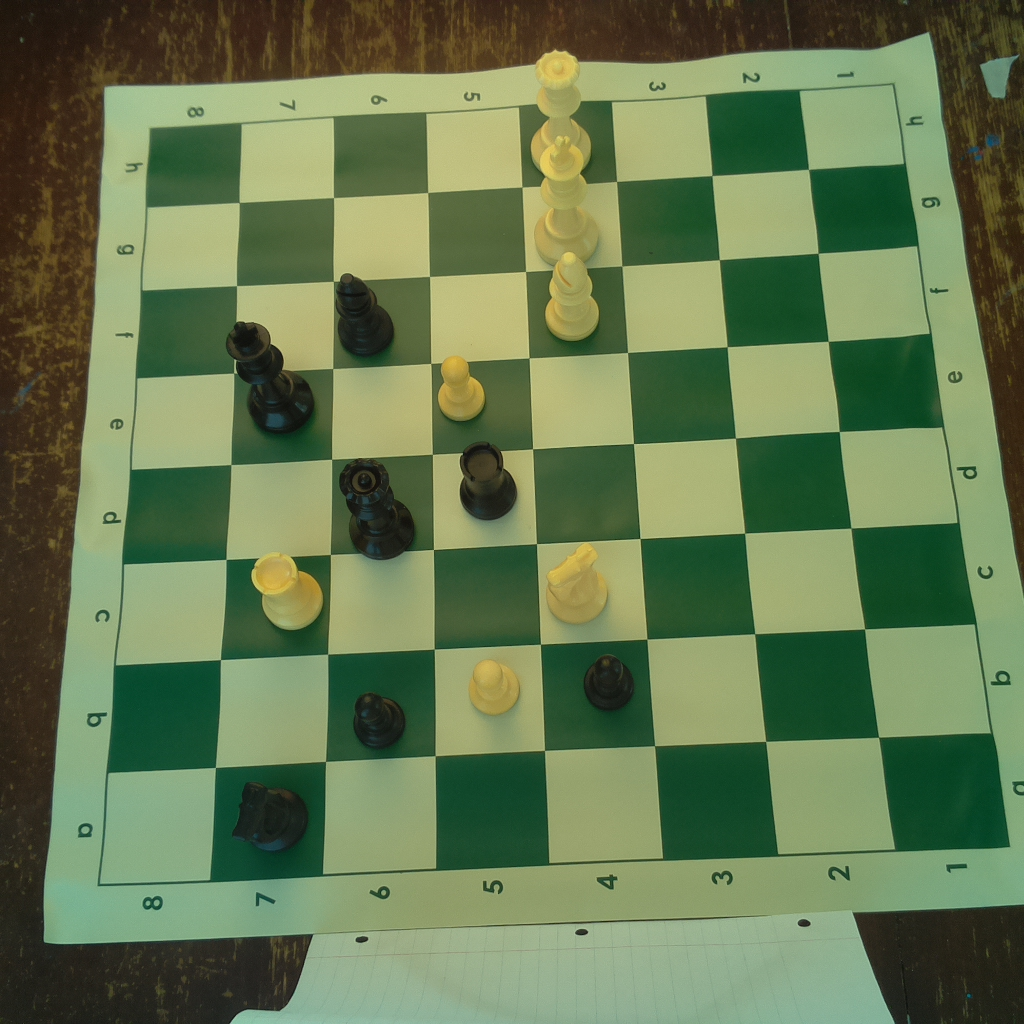black_bishop: (328, 269, 403, 357)
black_king: (223, 318, 319, 435)
black_knight: (228, 778, 312, 854)
black_pawn: (577, 654, 646, 714), (347, 692, 408, 749)
black_queen: (336, 453, 421, 562)
black_rook: (453, 438, 523, 525)
file_a: (101, 734, 1010, 883)
file_b: (106, 625, 996, 775)
file_c: (116, 523, 976, 665)
file_d: (125, 425, 959, 565)
file_e: (131, 334, 942, 470)
file_f: (137, 245, 931, 379)
file_g: (141, 165, 918, 291)
file_h: (147, 84, 906, 209)
outline: (97, 84, 1014, 884)
rank_1: (799, 84, 1010, 852)
rank_2: (706, 87, 896, 856)
rank_3: (610, 96, 781, 861)
rank_4: (519, 101, 663, 861)
rank_5: (423, 106, 551, 871)
rank_6: (321, 114, 437, 873)
rank_7: (210, 119, 334, 879)
rank_8: (98, 123, 242, 883)
white_bishop: (538, 253, 602, 341)
white_king: (529, 135, 608, 264)
white_knight: (542, 540, 614, 627)
white_pawn: (433, 352, 489, 425), (466, 654, 523, 718)
white_queen: (527, 44, 596, 177)
white_rook: (249, 549, 328, 636)
